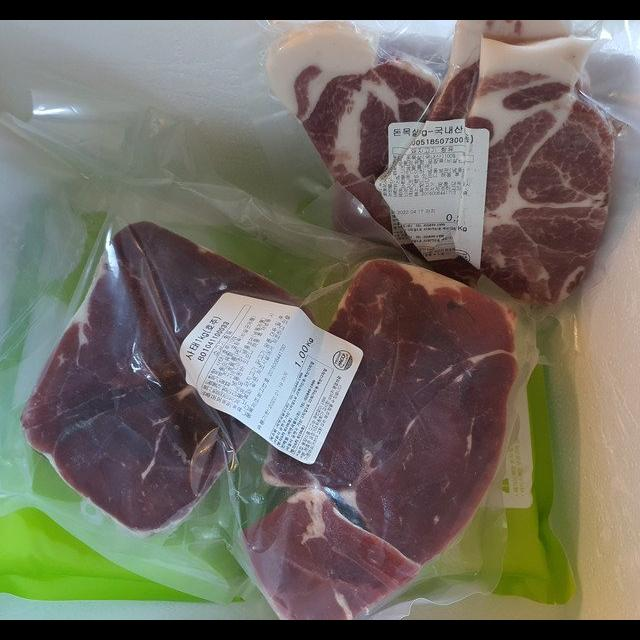beef: (316, 32, 604, 255), (46, 225, 257, 480), (367, 286, 491, 527)
